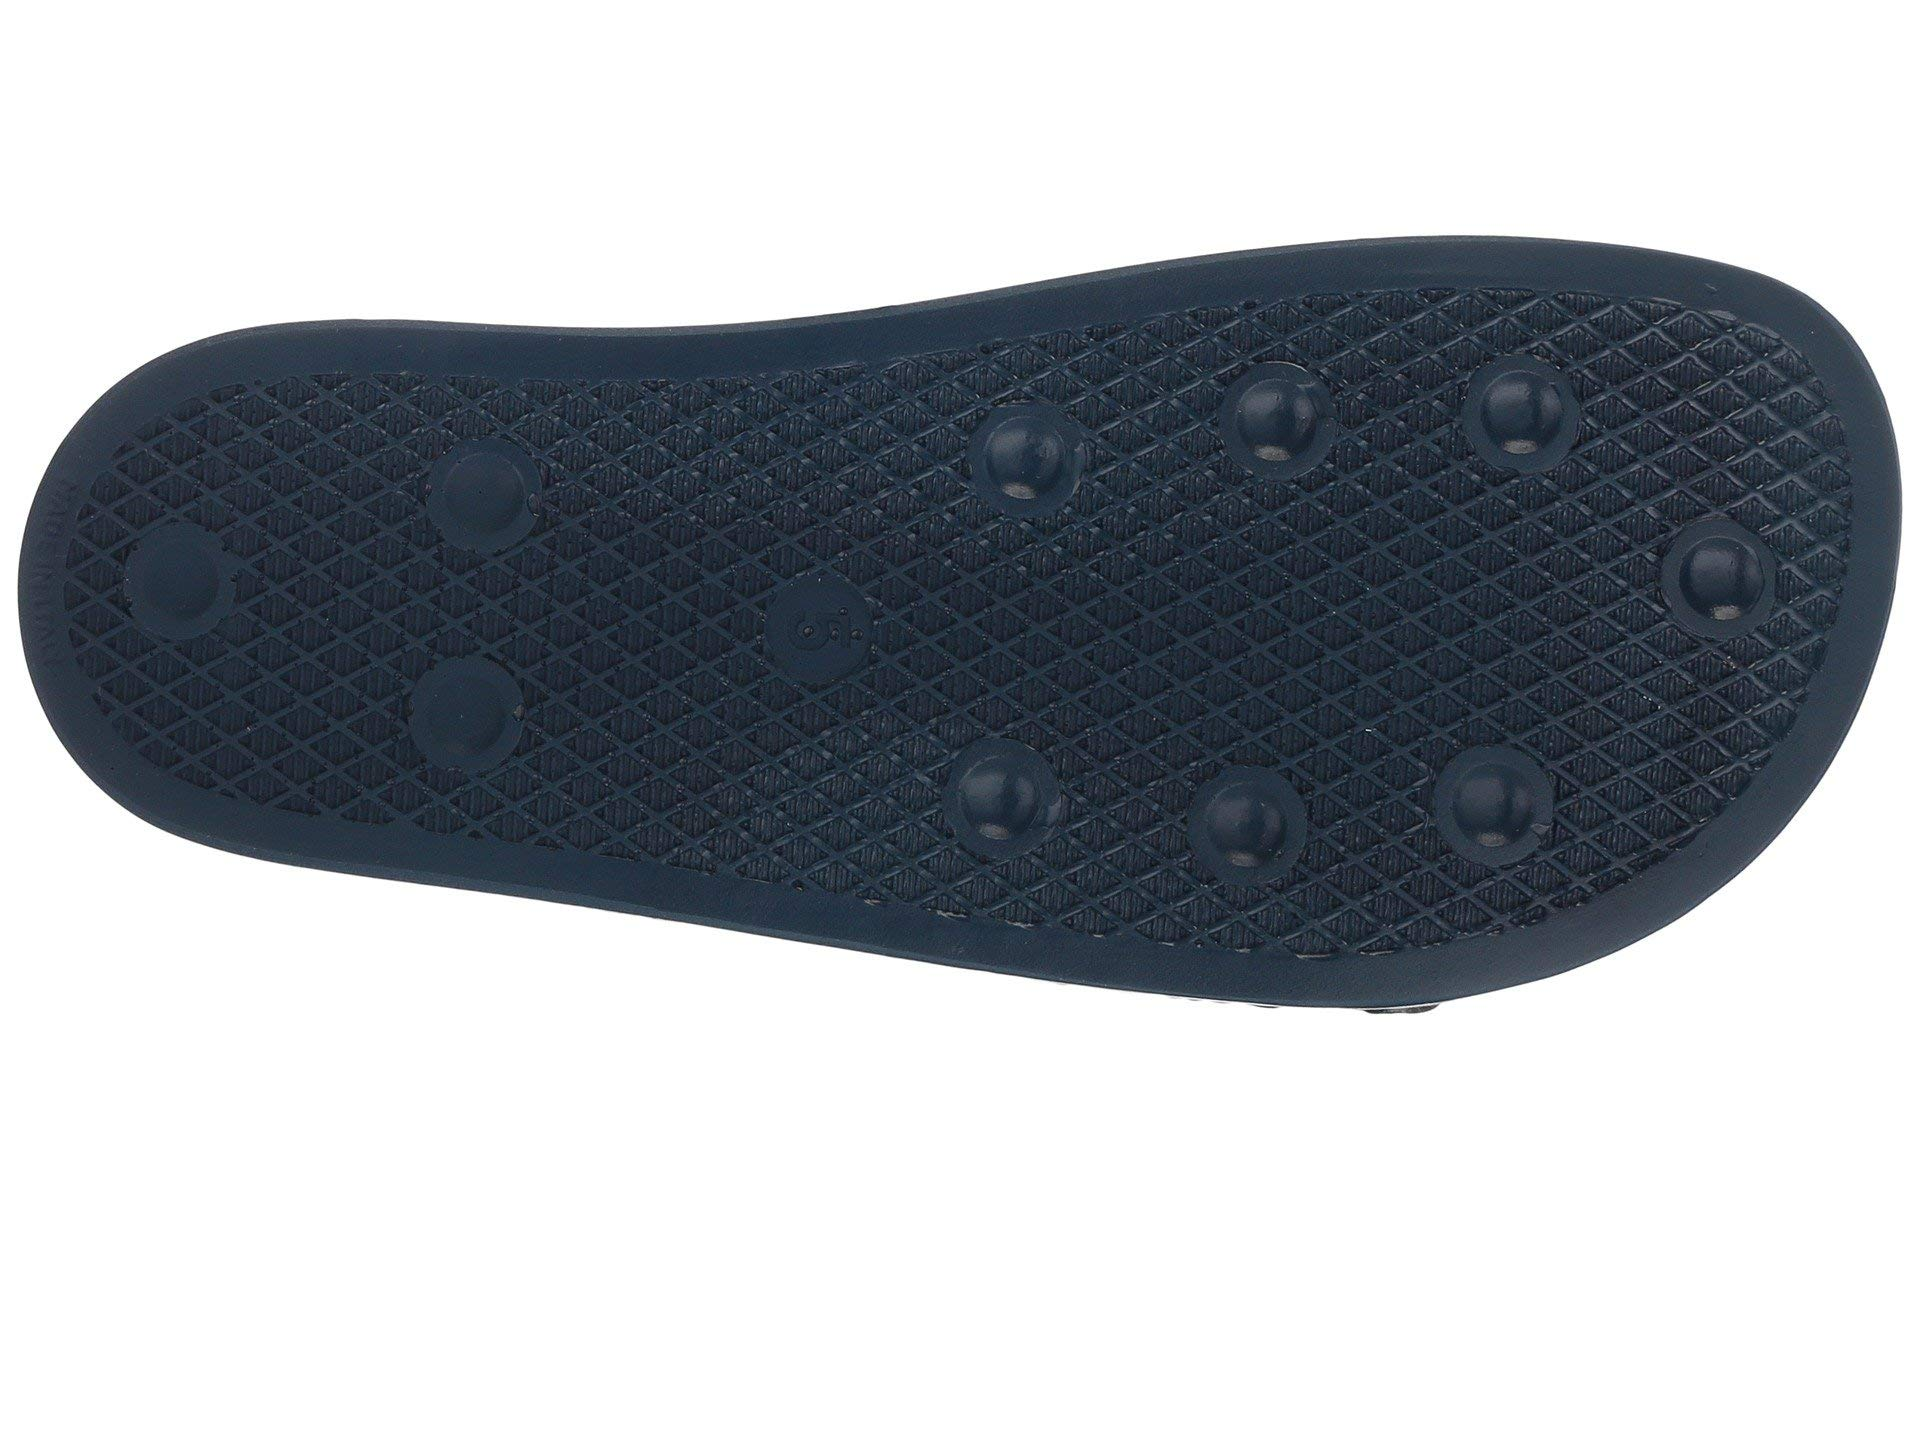circle: (372, 417, 587, 616), (1417, 333, 1612, 529)
quad: (372, 417, 587, 616), (1417, 333, 1612, 529)
